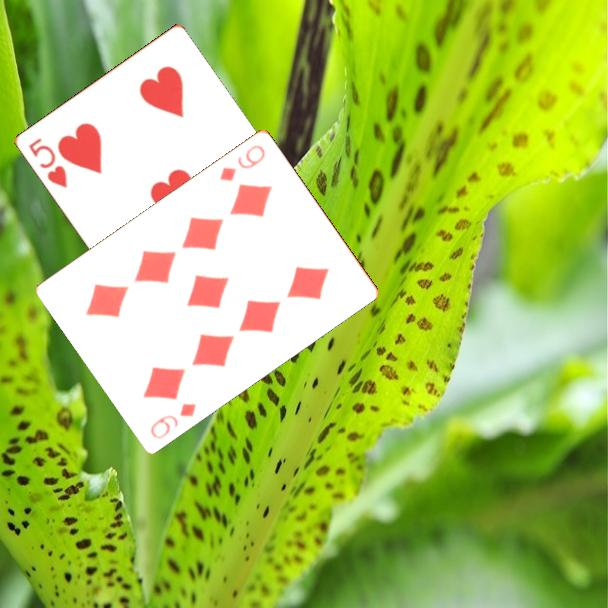d09: (216, 141, 269, 184), (147, 399, 199, 442)
h05: (25, 134, 70, 191)
